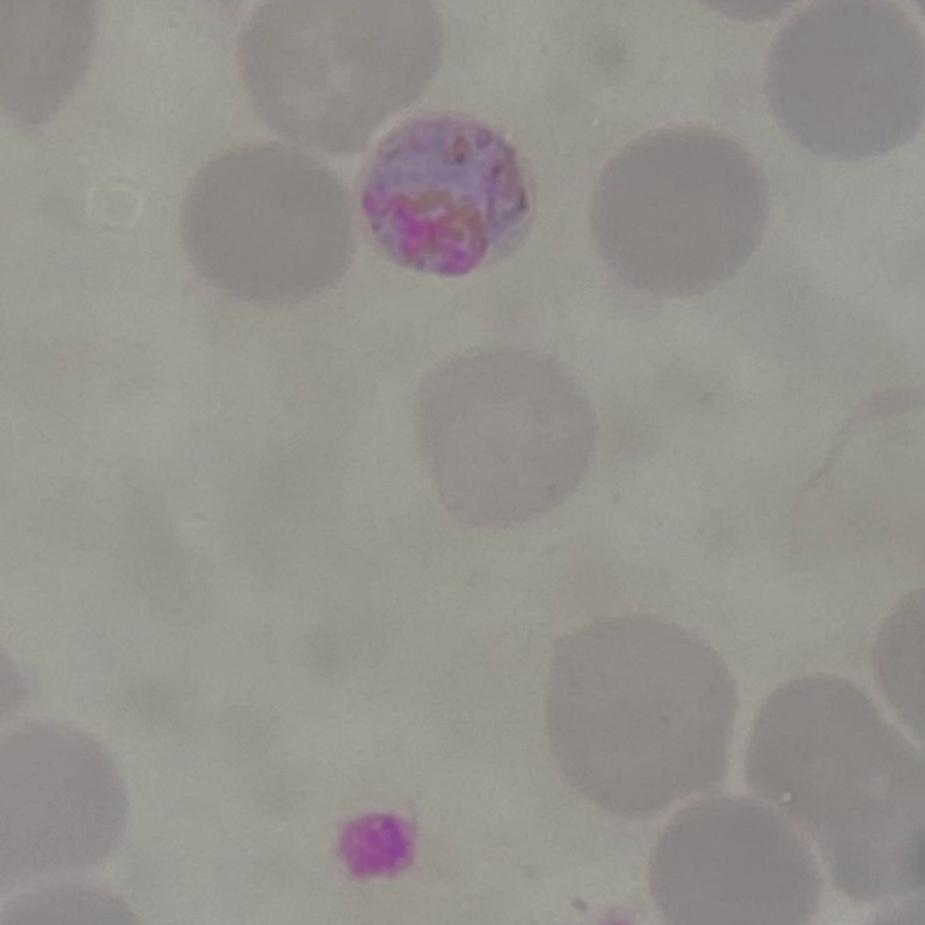Infected: (363, 108, 536, 280)
Uninfected: (548, 618, 746, 827), (752, 668, 925, 899), (242, 0, 448, 160), (588, 123, 772, 297), (423, 343, 596, 525), (183, 146, 361, 305), (775, 0, 925, 160), (647, 783, 809, 925), (0, 721, 136, 889)
